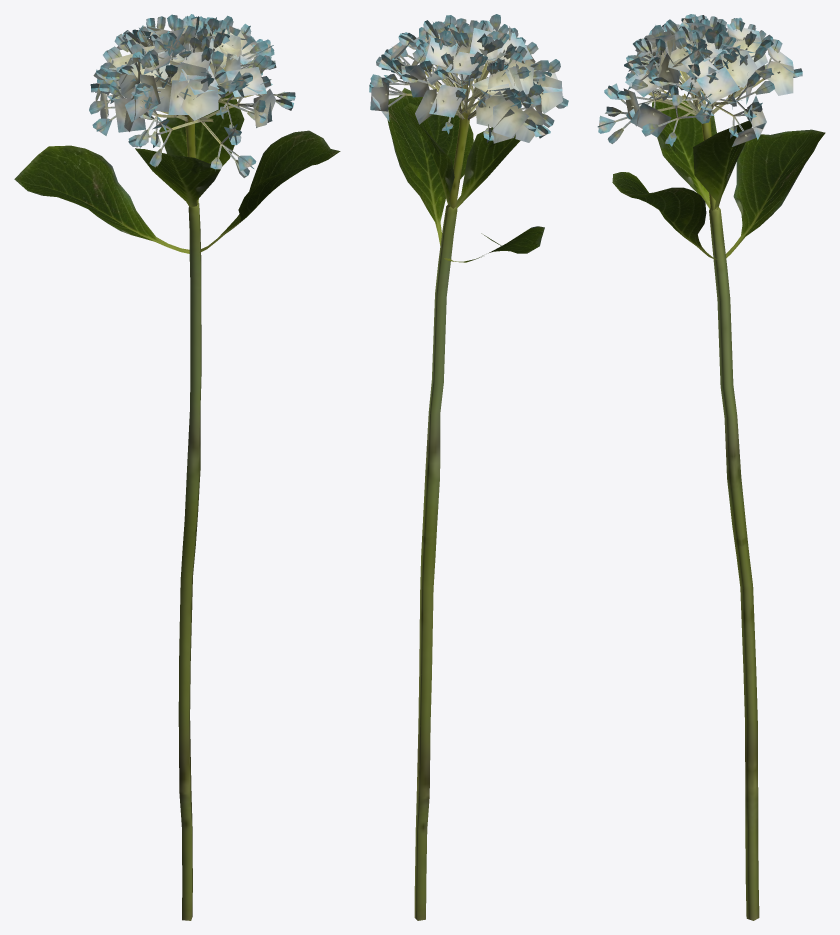
Rendered from Hydrangea_baby_long_cyan.glb.
3 views of the same model, side by side, from view 1: azimuth 30°, elevation 25°; view 2: azimuth 150°, elevation 25°; view 3: azimuth 270°, elevation 25° (orthographic). The views are drawn at different scales.
Visible parts, largest first — view 1: BABY; view 2: BABY; view 3: BABY.
Part boxes in pixels (box(x1,y1,x2,y2)): BABY: box(14, 14, 340, 920); BABY: box(369, 14, 568, 920); BABY: box(597, 14, 825, 920).
Bounding box in the file's own units: 0.7928 × 3.08 × 0.7195.
Materials: 1 (1 with a texture image).
